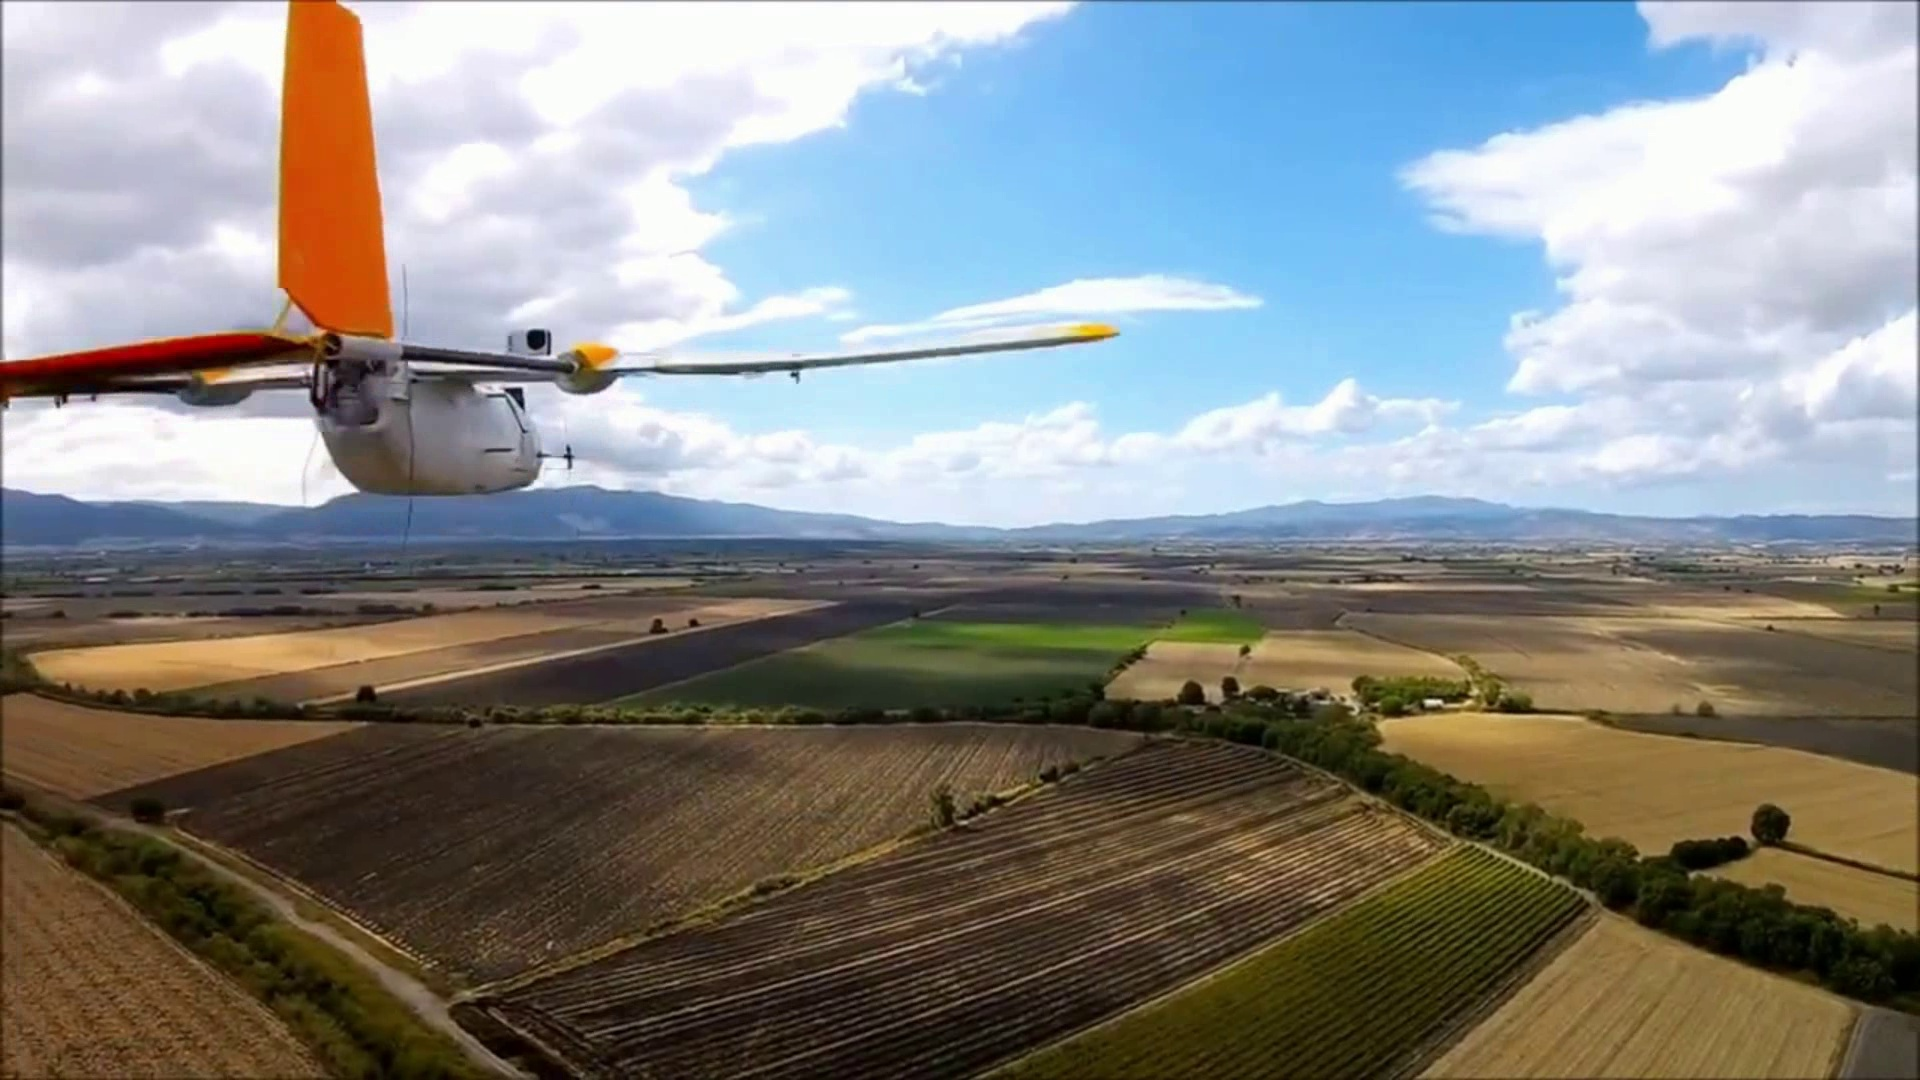airplane: (3, 7, 1269, 501)
